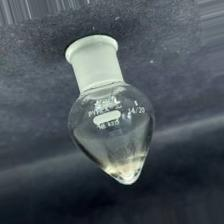Pear shaped flask: (57, 30, 156, 187)
